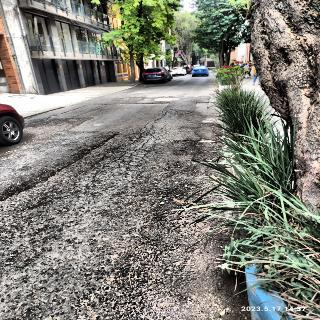alligator-crack: (101, 132, 155, 191)
pothole: (195, 137, 217, 143)
